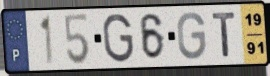1: (38, 13, 55, 68)
5: (62, 12, 91, 67)
6: (138, 12, 167, 62)
G: (101, 12, 136, 64), (176, 10, 208, 62)
T: (210, 11, 238, 59)
